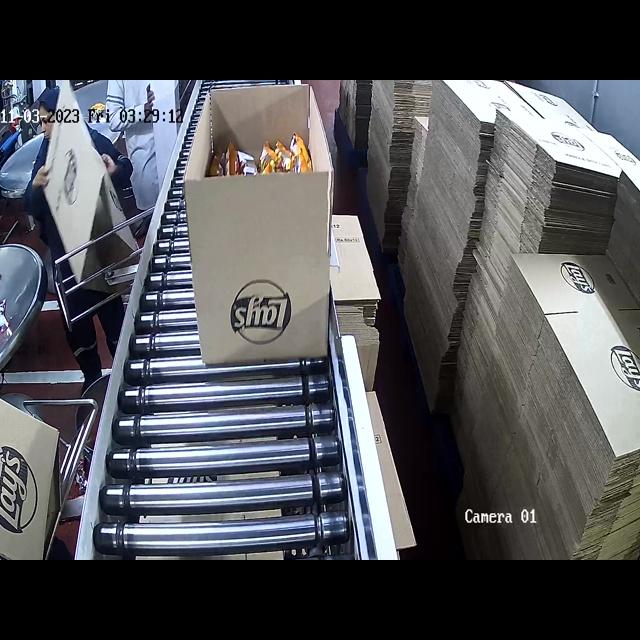cheese: (204, 135, 312, 182)
